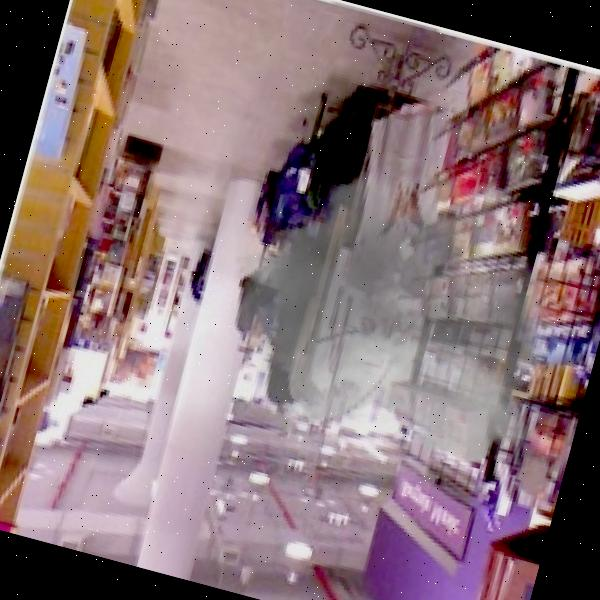smoke: (168, 107, 600, 553)
